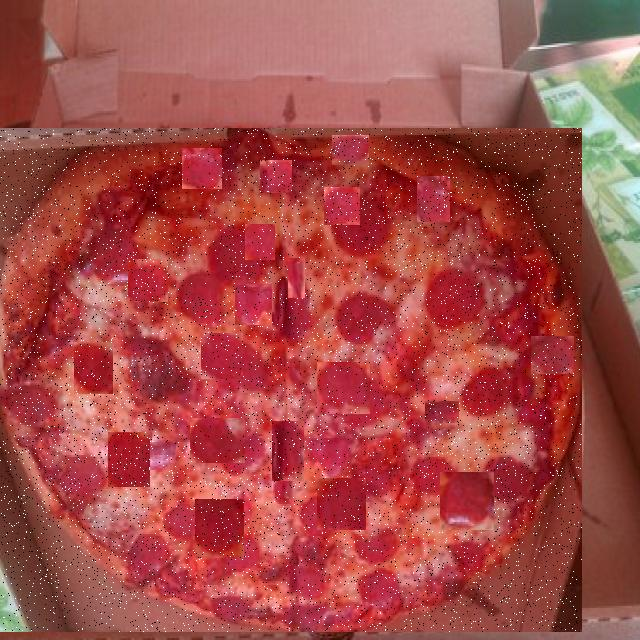Pepperoni: (440, 472, 494, 530), (195, 499, 244, 558), (317, 362, 370, 414), (317, 478, 366, 530), (190, 418, 245, 463), (108, 432, 150, 487), (356, 435, 404, 483), (53, 256, 96, 304), (74, 342, 113, 394), (201, 333, 243, 379), (272, 421, 304, 481), (128, 259, 168, 302), (182, 148, 222, 189), (531, 336, 574, 374), (188, 259, 230, 297), (417, 176, 450, 222), (235, 284, 272, 325), (485, 258, 521, 300), (409, 284, 448, 320), (324, 187, 360, 225), (187, 196, 226, 230), (320, 287, 364, 317), (378, 218, 413, 254), (92, 187, 132, 215), (332, 135, 369, 165), (245, 224, 275, 260), (260, 160, 292, 193), (425, 401, 459, 423), (288, 258, 305, 298), (332, 239, 362, 258)
Pizza: (0, 128, 582, 632)
